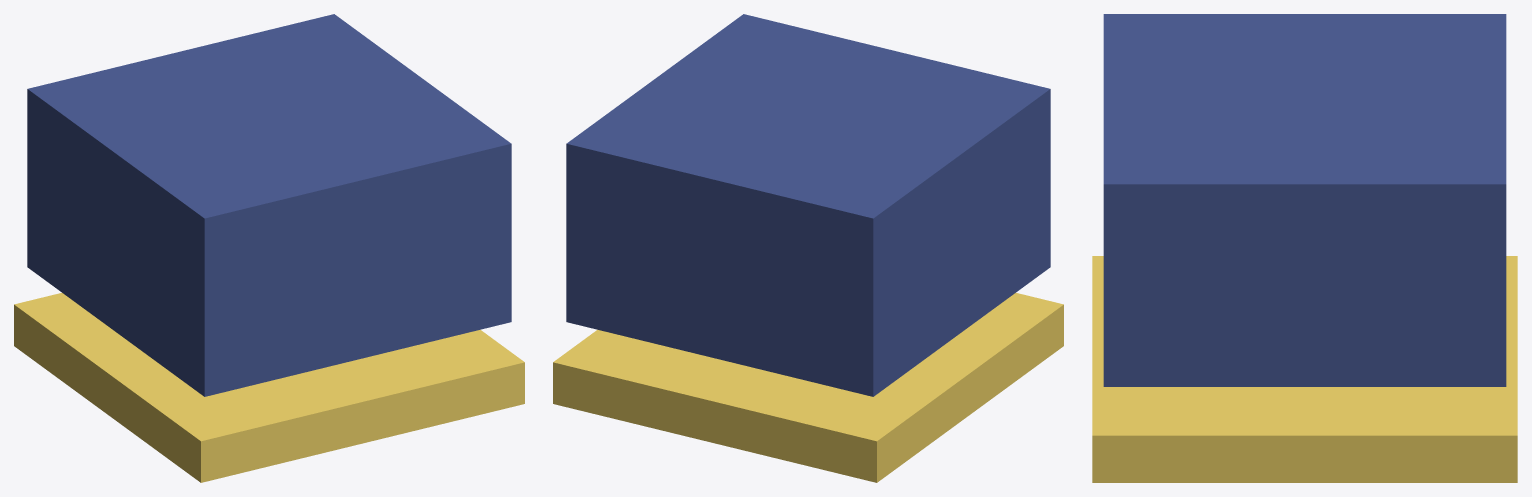
The model's file is vestido_manga_inf.glb.
The picture shows the model from 3 angles, left to right: view 1: azimuth 30°, elevation 25°; view 2: azimuth 150°, elevation 25°; view 3: azimuth 270°, elevation 25°; orthographic projection. The views are drawn at different scales.
Parts seen in each view (by area): view 1: vestido_manga_inf; view 2: vestido_manga_inf; view 3: vestido_manga_inf.
Part boxes in pixels (left/top/right/bottom): vestido_manga_inf: left=14, top=14, right=524, bottom=482; vestido_manga_inf: left=553, top=14, right=1063, bottom=482; vestido_manga_inf: left=1092, top=14, right=1517, bottom=482.
Size of the model in its own units: 0.285 by 0.2175 by 0.285.
